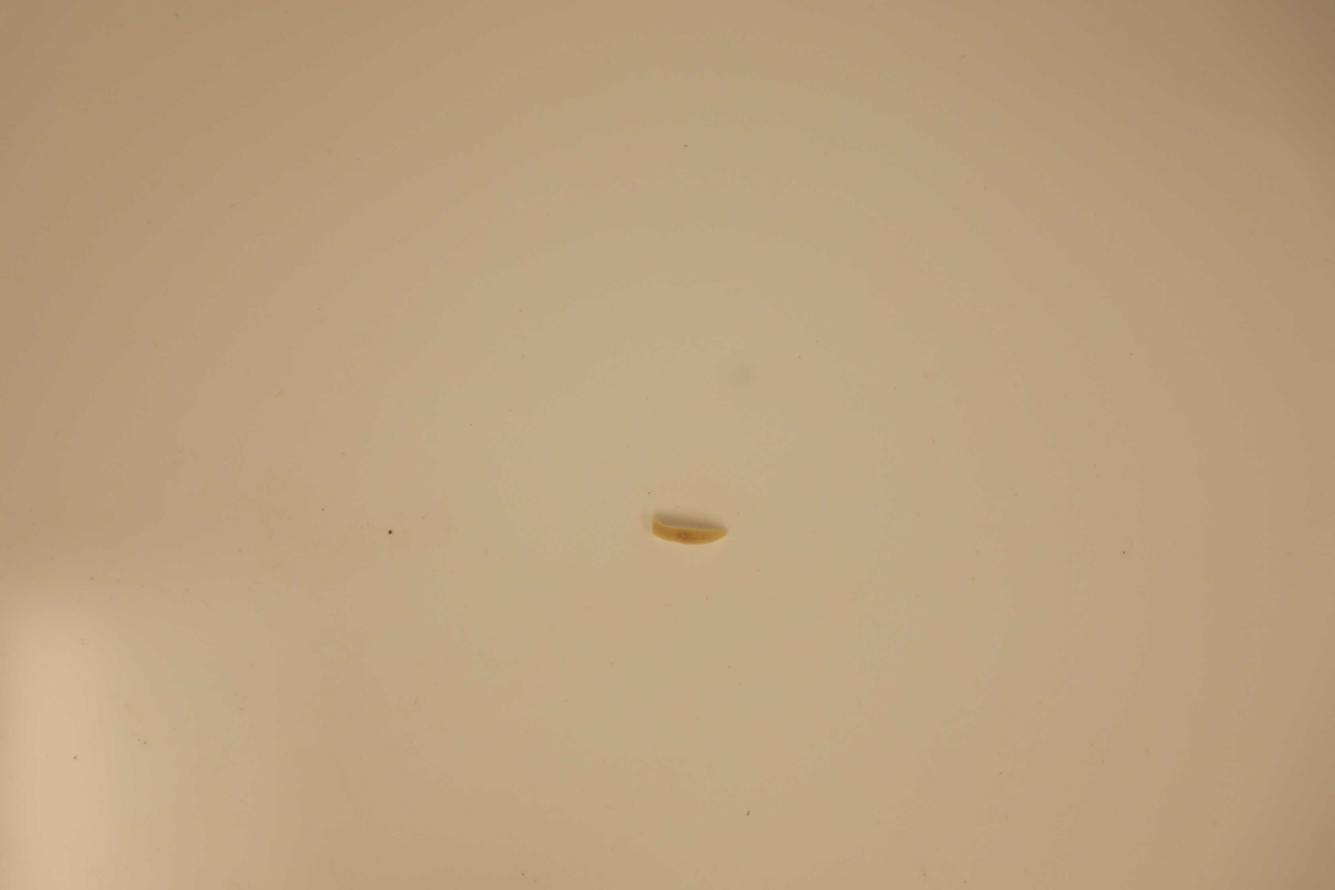Cadisfly: (648, 514, 726, 545)
